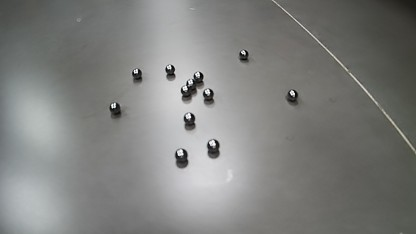ironball: (207, 139, 219, 153), (175, 148, 187, 162), (183, 112, 195, 125), (286, 89, 298, 102), (109, 102, 120, 114), (203, 88, 213, 100), (186, 78, 196, 90), (193, 71, 203, 82), (165, 64, 175, 75), (238, 49, 248, 60), (181, 85, 191, 96), (131, 68, 141, 78)
